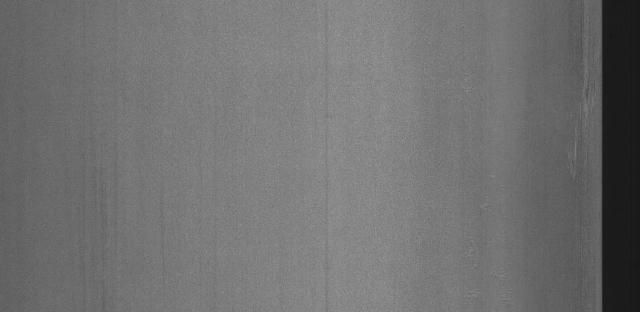silk_spot: (543, 63, 596, 178)
